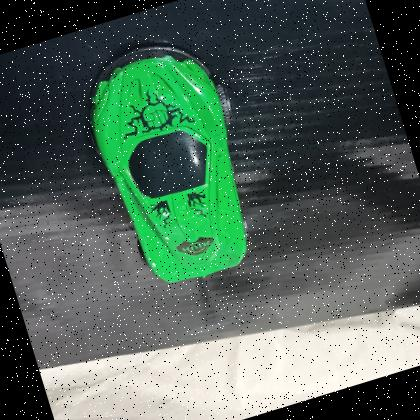Car: (64, 18, 284, 304)
